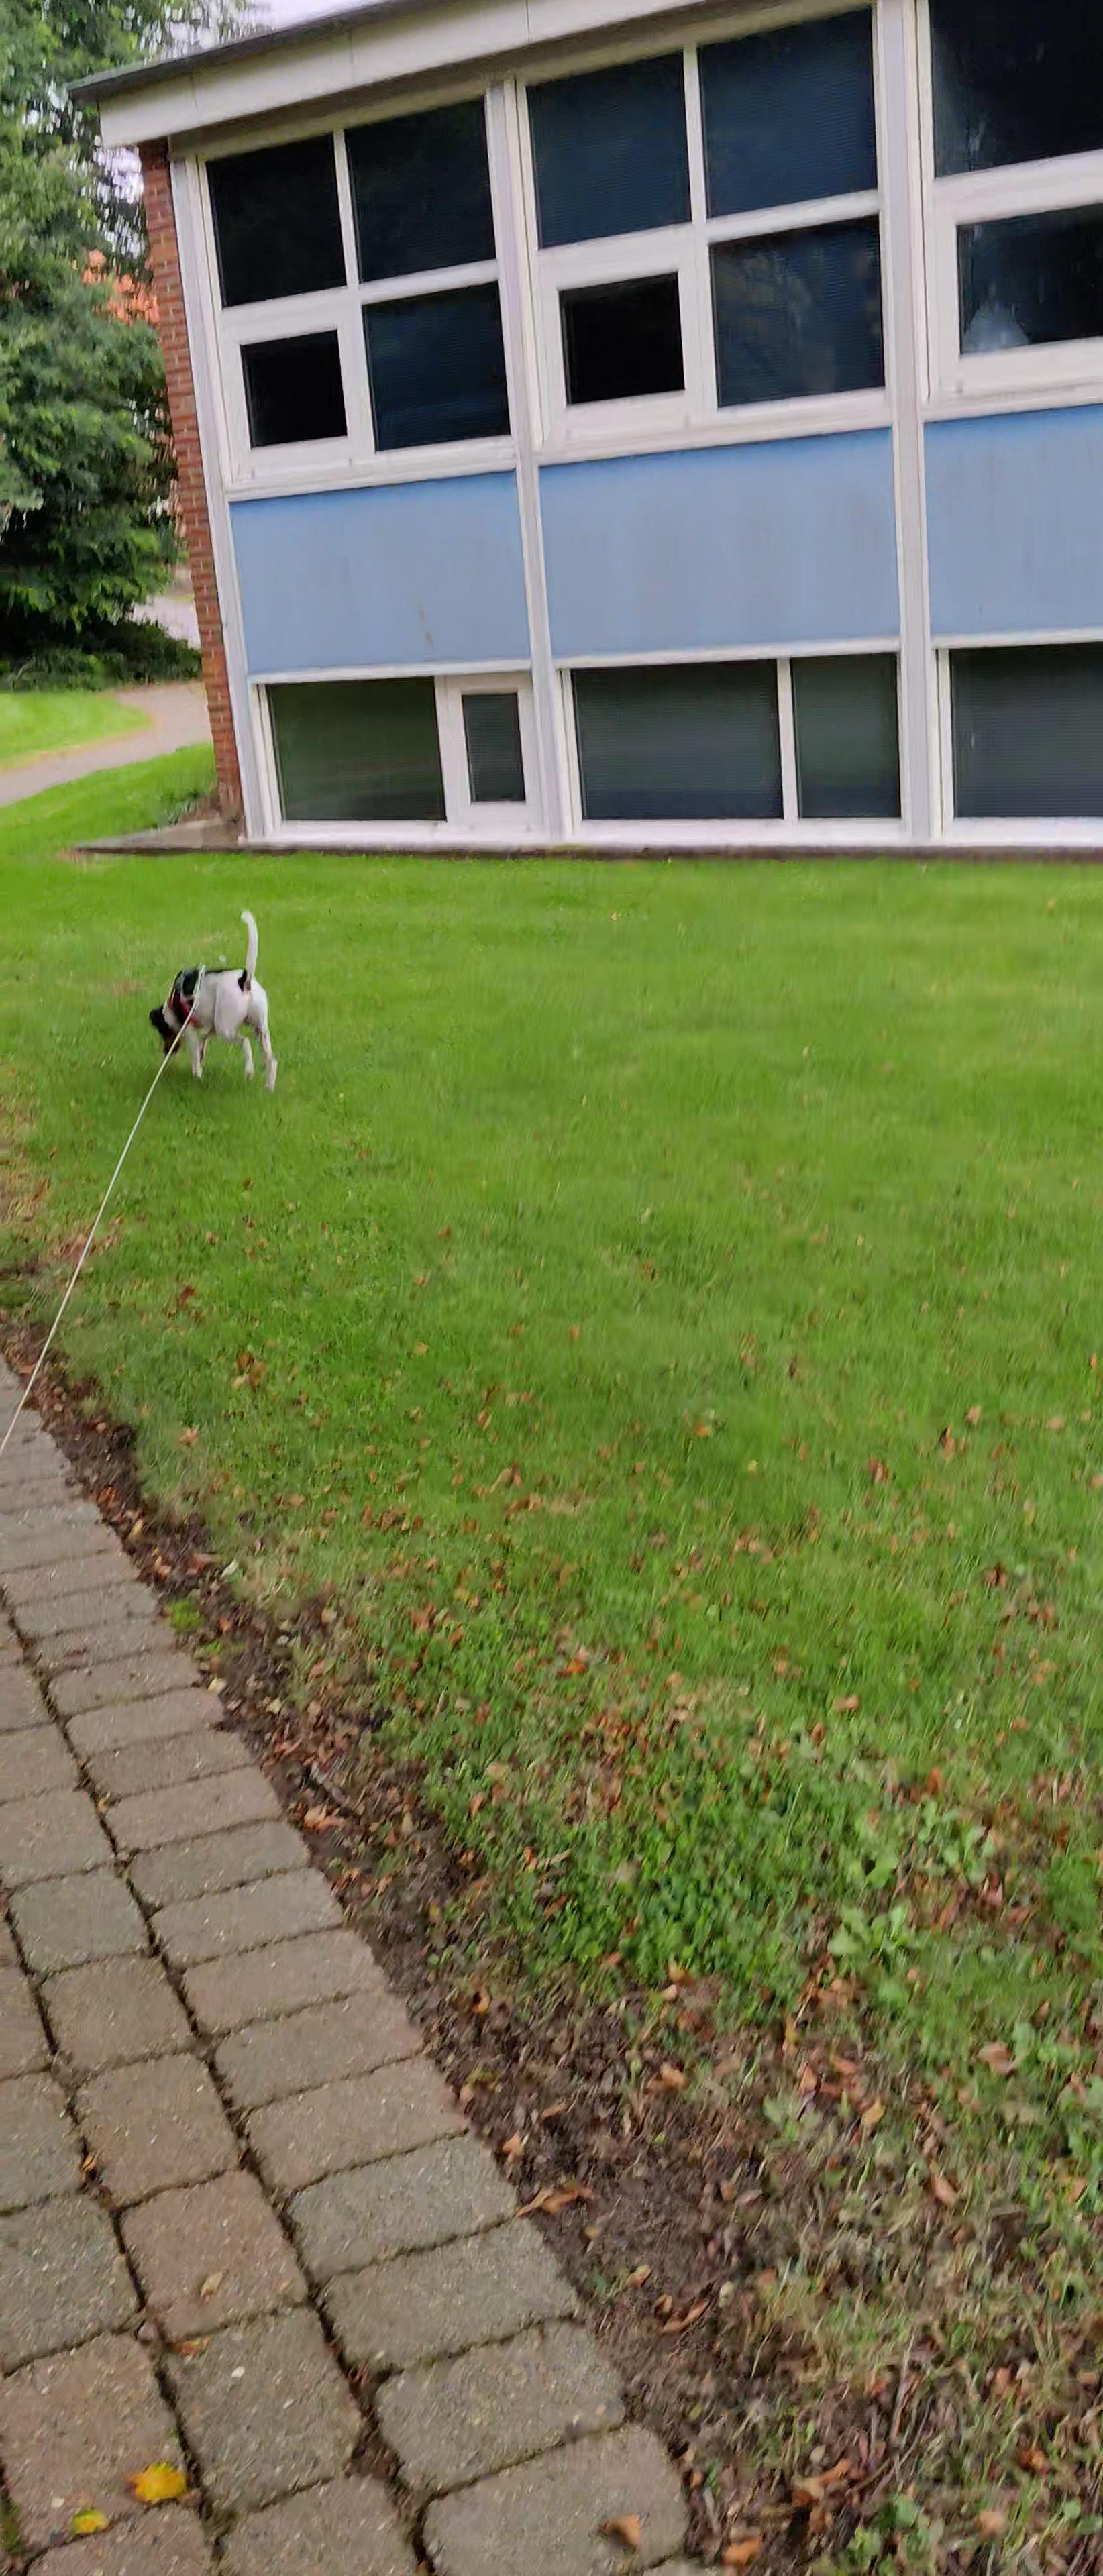Dog: (146, 900, 281, 1091)
